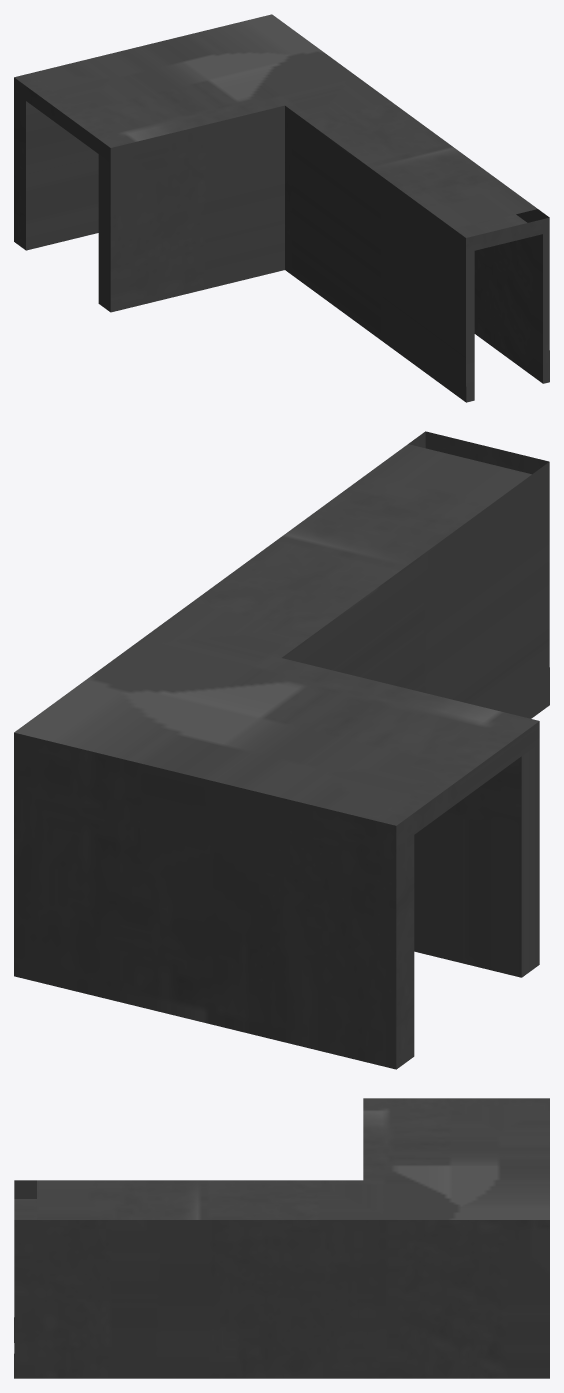
The model's file is CorridorSide.obj.
3 renders of one model, top to bottom at view 1: azimuth 30°, elevation 25°; view 2: azimuth 150°, elevation 25°; view 3: azimuth 270°, elevation 25°, orthographic. The views are drawn at different scales.
Parts seen in each view (by area): view 1: WallALLColumns.006; view 2: WallALLColumns.006; view 3: WallALLColumns.006.
Boxes of the visible parts, box(x1,y1,x2,y2) form: WallALLColumns.006: box(14, 14, 549, 402); WallALLColumns.006: box(14, 431, 549, 1069); WallALLColumns.006: box(14, 1098, 549, 1378).
Bounding box in the file's own units: 12.33 × 7.51 × 22.99.
